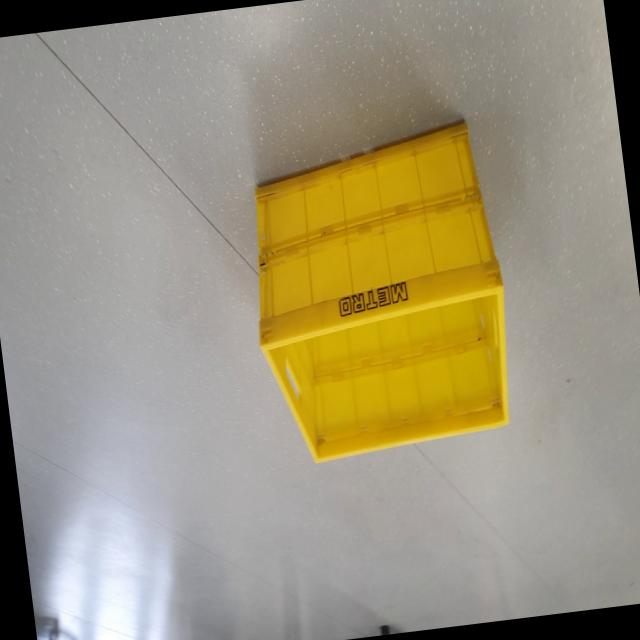box: (224, 105, 538, 492)
